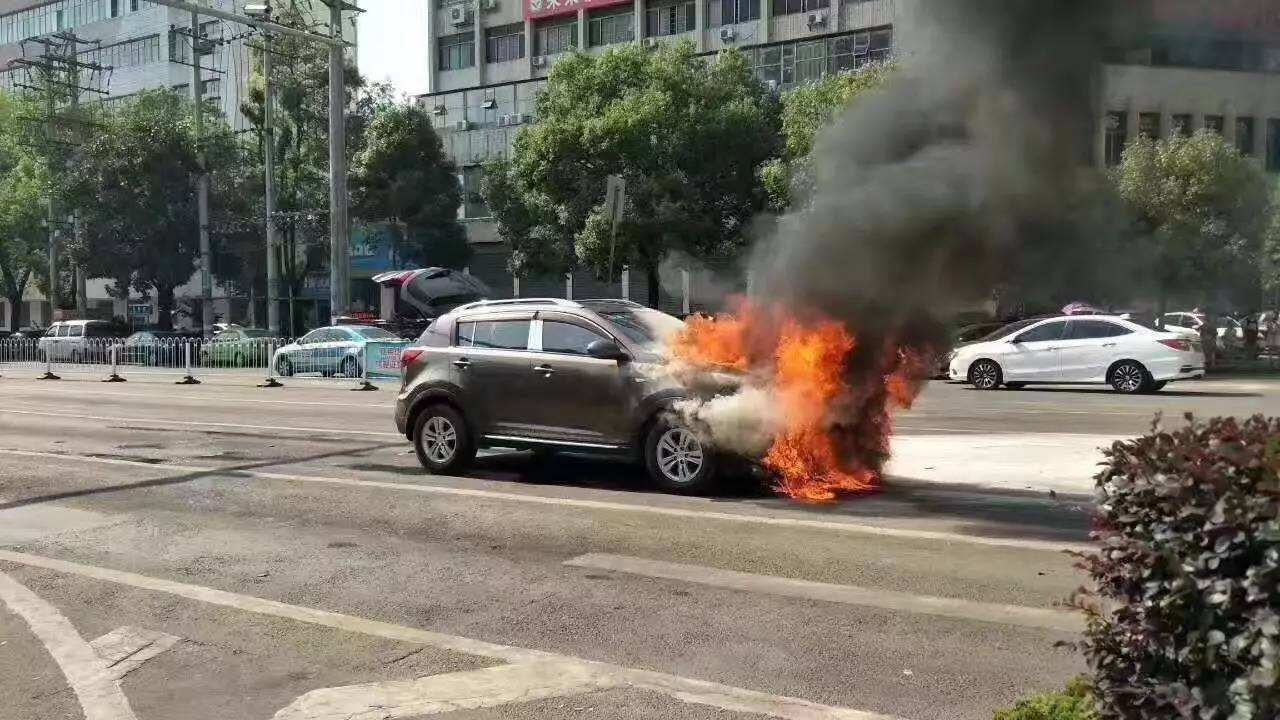fire: (655, 294, 941, 506)
